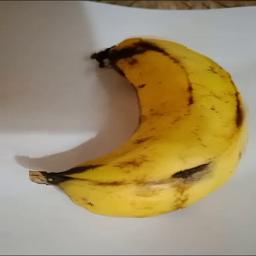Banana Semifresh: (29, 32, 251, 218)
